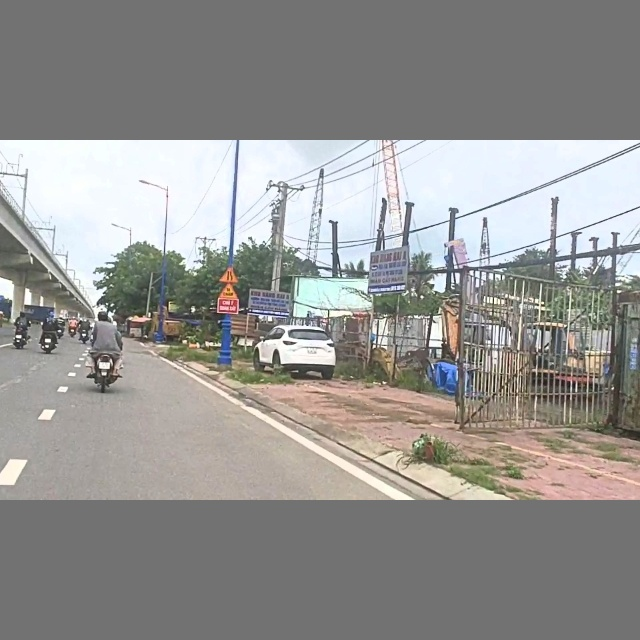W.203c: (219, 266, 240, 282)
W.245a: (219, 283, 240, 299)
